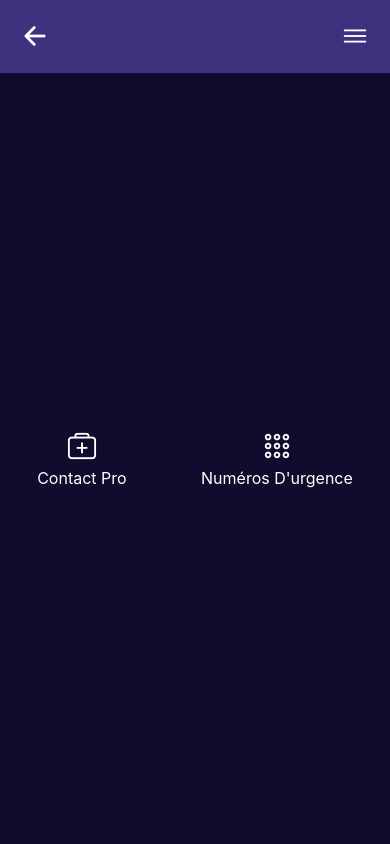
it: Contact Screen › updates active section to "emergencyNumbers" when Emergency Numbers icon is pressed
This screenshot has width=390, height=844.
Click the text "Numéros D'urgence". click: (277, 478)
box: [201, 468, 353, 488]
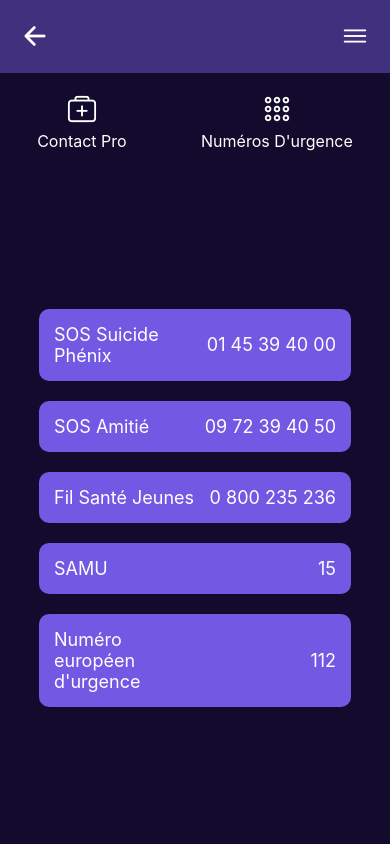
Expected: the text "SOS Suicide Phénix" is shown, [54, 324, 164, 366]
Expected: the text "SOS Amitié" is shown, [54, 416, 149, 436]
Expected: the text "Fil Santé Jeunes" is shown, [54, 486, 195, 508]
